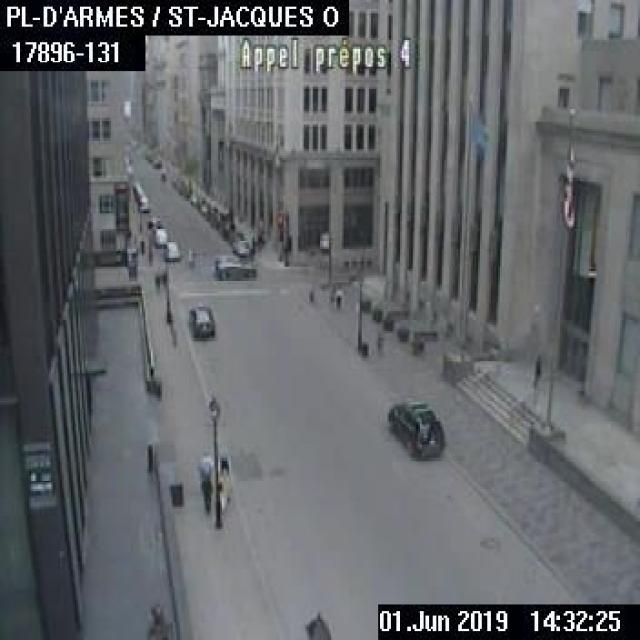pedestrian: (196, 469, 211, 511), (217, 468, 230, 510), (530, 352, 540, 386), (198, 452, 211, 472), (373, 331, 382, 356), (333, 287, 342, 311), (218, 454, 228, 474), (186, 247, 193, 265), (153, 268, 159, 288), (138, 236, 144, 253), (147, 244, 151, 264), (160, 268, 164, 284)
vehicle: (387, 400, 445, 457), (186, 302, 215, 338), (214, 255, 255, 277), (231, 236, 248, 254), (164, 239, 179, 259), (152, 227, 166, 246), (147, 218, 160, 231), (138, 195, 148, 211)
